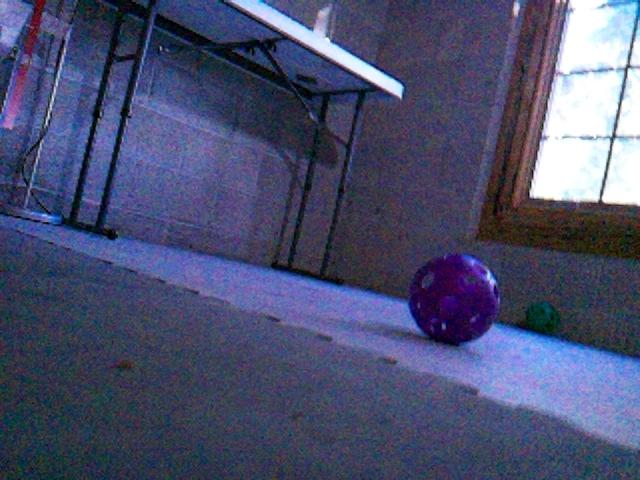Green: (524, 301, 560, 335)
Purple: (406, 252, 500, 346)
